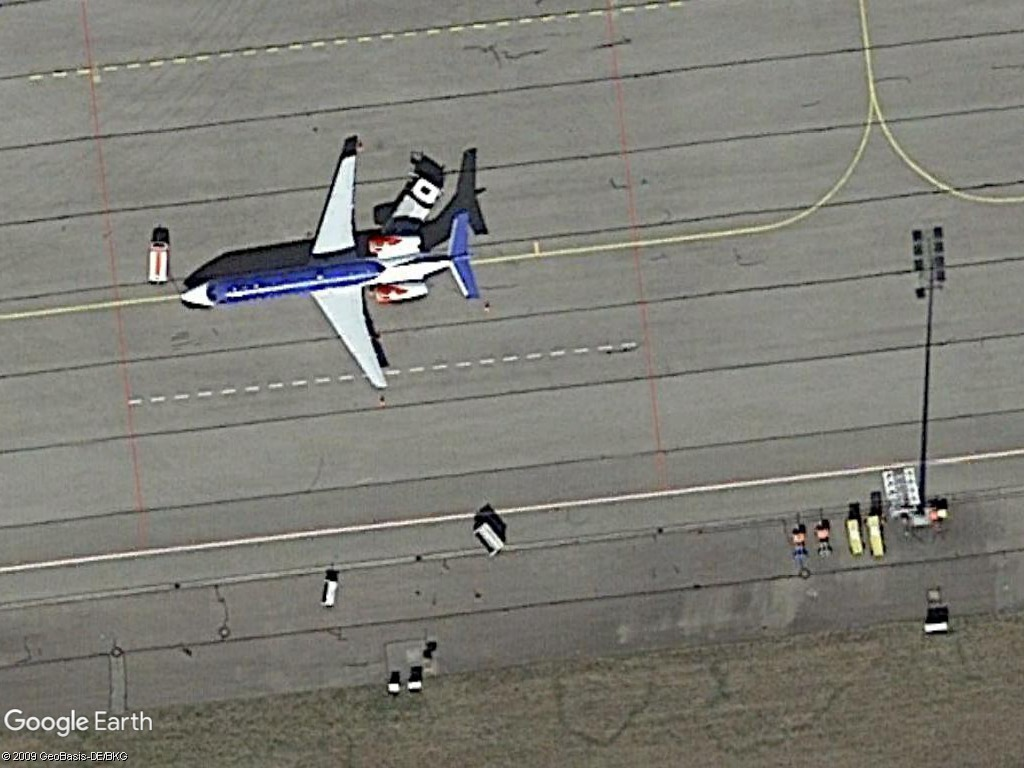chartered: (178, 155, 490, 395)
